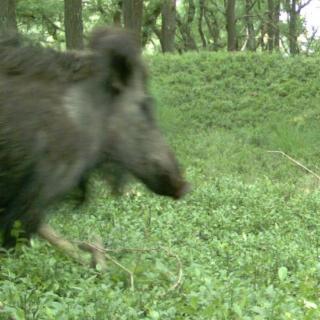Pig: (0, 13, 210, 262)
